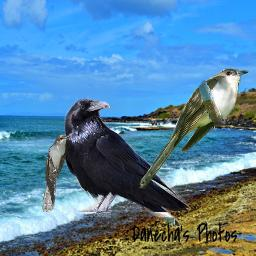Crow: (62, 98, 189, 228)
Cuckoo: (138, 67, 249, 191), (42, 134, 71, 212)
